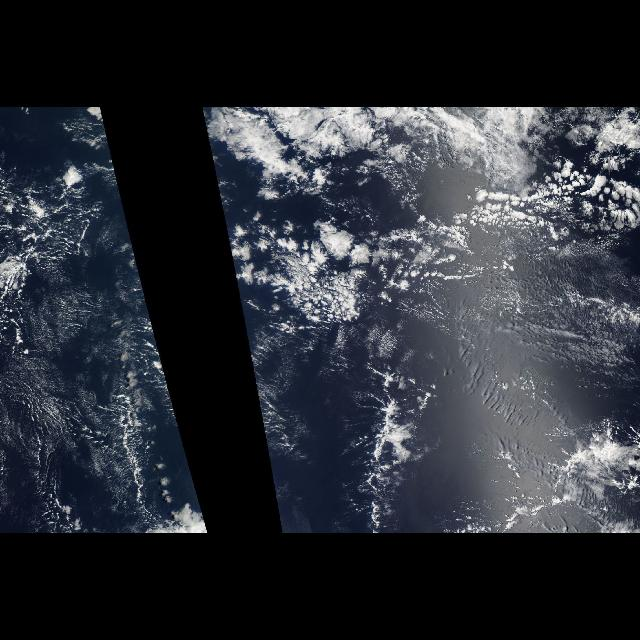Sugar: (0, 178, 208, 532), (235, 289, 473, 533)
